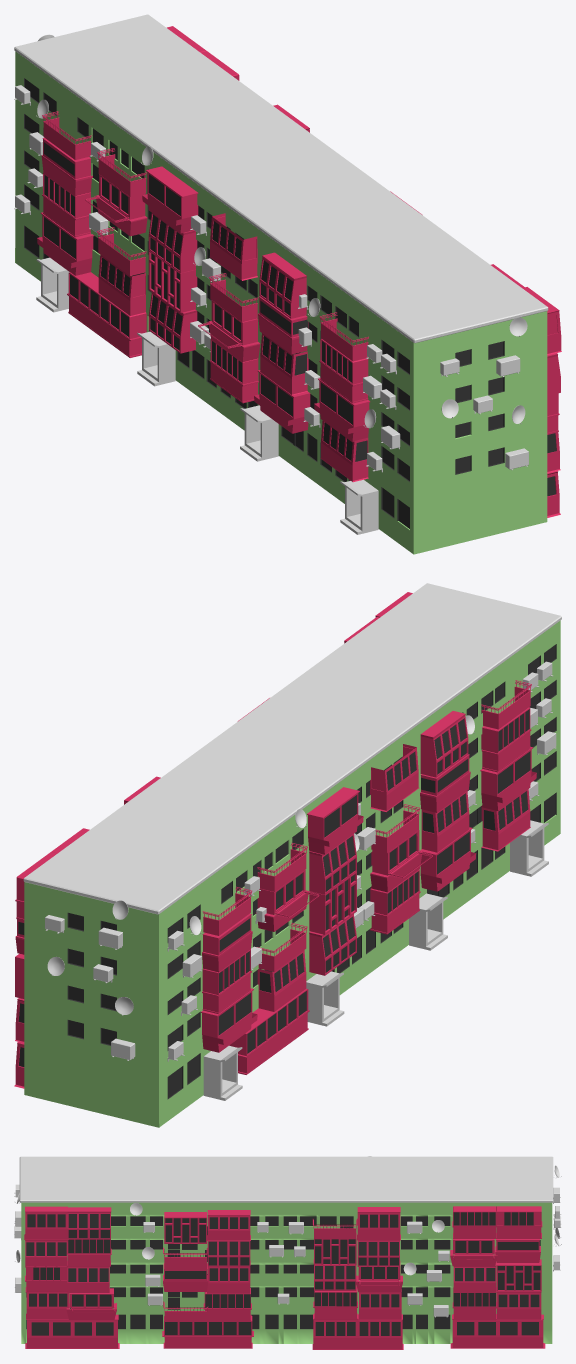
File: posledneezdanie staroe.fbx
3 views of the same model, one above another, from view 1: azimuth 30°, elevation 25°; view 2: azimuth 150°, elevation 25°; view 3: azimuth 270°, elevation 25° (orthographic). The views are drawn at different scales.
Parts seen in each view (by area): view 1: Cube.089, roof, Плоскость.023, Плоскость.055, Cube.090, Cube.091, Cube.092, Cube.093; view 2: Cube.089, roof, Плоскость.023, Плоскость.055, Cube.093, Cube.091, Cube.092, Cube.090; view 3: Плоскость.055, Cube.089, roof.
Boxes of the visible parts, bbox=[...] form: Cube.089: bbox=[15, 51, 547, 554]; roof: bbox=[14, 14, 548, 343]; Плоскость.023: bbox=[37, 111, 370, 482]; Плоскость.055: bbox=[167, 26, 561, 517]; Cube.090: bbox=[340, 479, 378, 534]; Cube.091: bbox=[240, 405, 278, 461]; Cube.092: bbox=[137, 331, 175, 386]; Cube.093: bbox=[36, 257, 69, 312]; Cube.089: bbox=[24, 620, 560, 1127]; roof: bbox=[23, 583, 561, 914]; Плоскость.023: bbox=[201, 680, 536, 1074]; Плоскость.055: bbox=[14, 592, 412, 1088]; Cube.093: bbox=[203, 1045, 242, 1100]; Cube.091: bbox=[409, 893, 447, 950]; Cube.092: bbox=[306, 971, 344, 1026]; Cube.090: bbox=[510, 820, 548, 876]; Плоскость.055: bbox=[24, 1206, 545, 1349]; Cube.089: bbox=[21, 1202, 552, 1343]; roof: bbox=[19, 1156, 553, 1202].
Bounding box in the file's own units: 2355 × 2514 × 8563.
